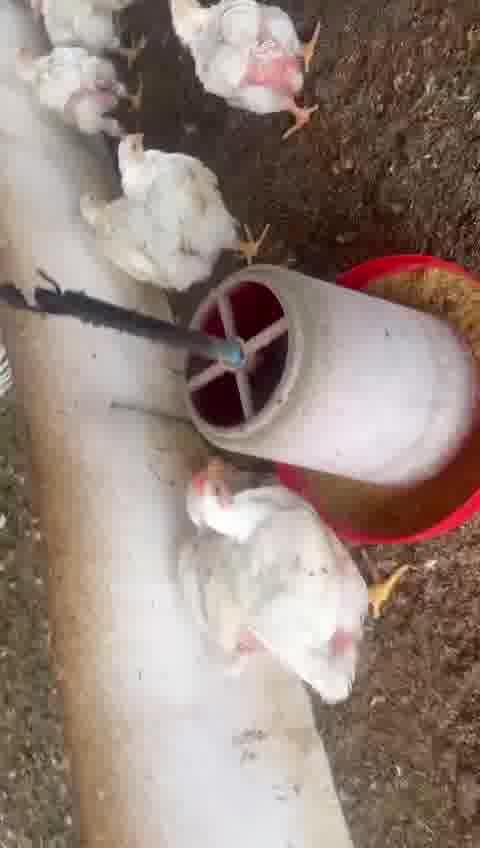Normal: (182, 459, 402, 691), (115, 132, 265, 258), (172, 4, 323, 114), (10, 50, 141, 136)
